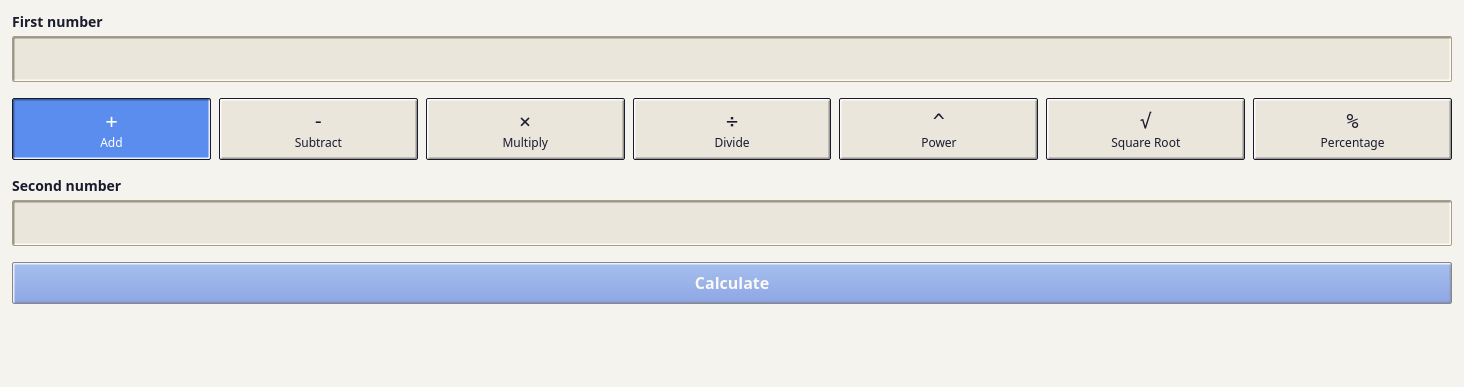
Calculator › calculating › words a percentage as "b% of a"
Click the radio button labelled "Percentage" at (1353,129), box x1=1253 y1=98 x2=1452 y2=160
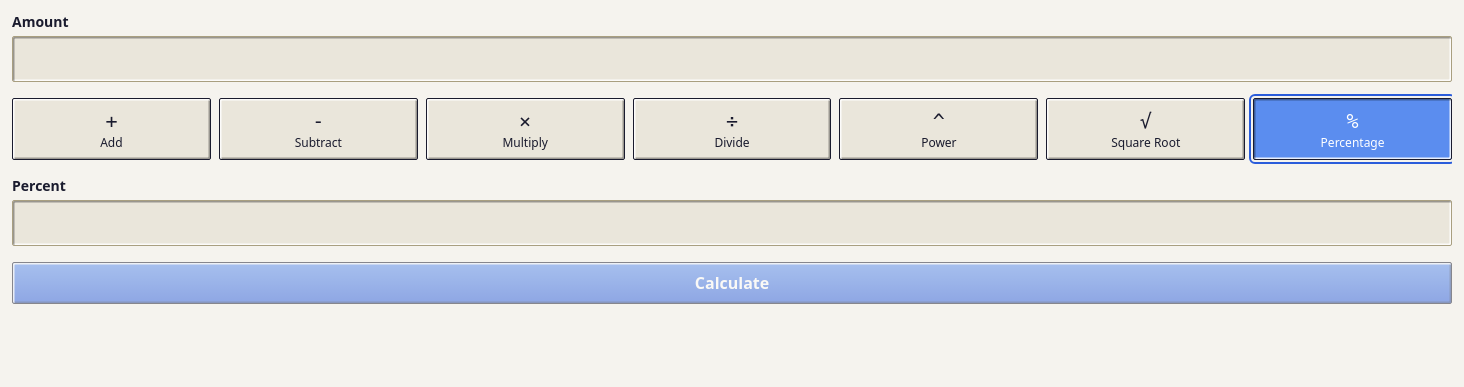
Type "200" into the field labelled "Amount" at (732,59), box x1=12 y1=36 x2=1452 y2=82
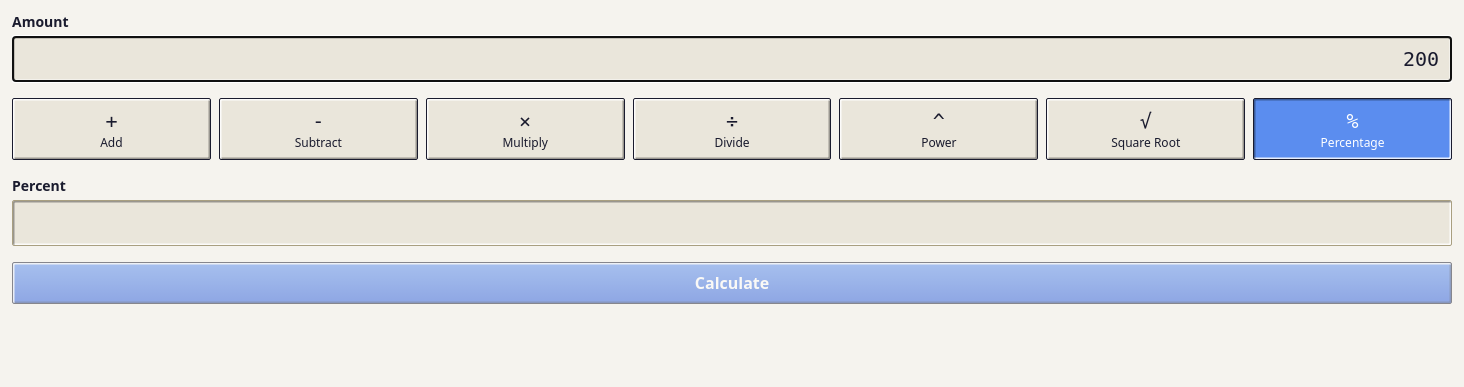
Type "15" into the field labelled "Percent" at (732,223), box x1=12 y1=200 x2=1452 y2=246
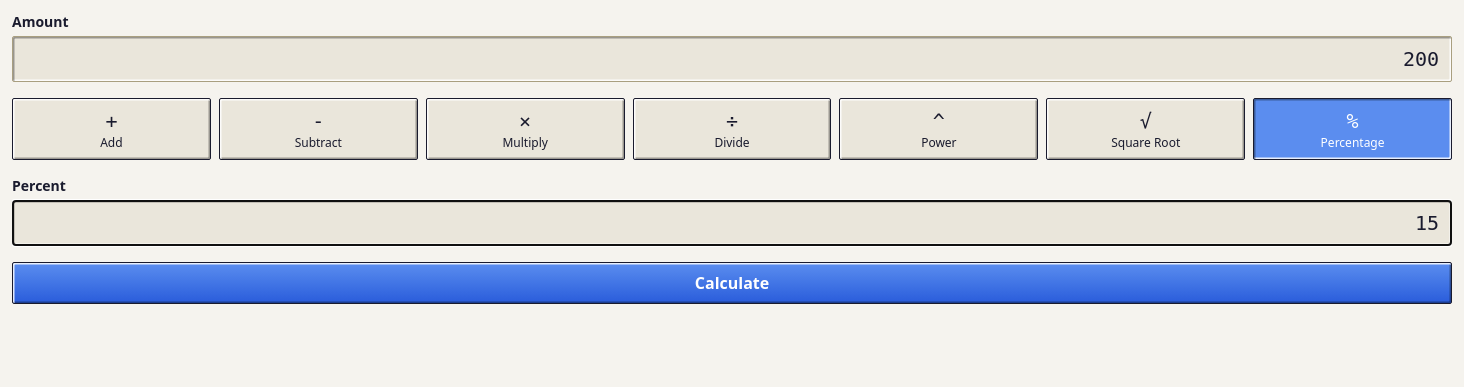
Click the button "Calculate" at (732,283), box x1=12 y1=262 x2=1452 y2=304
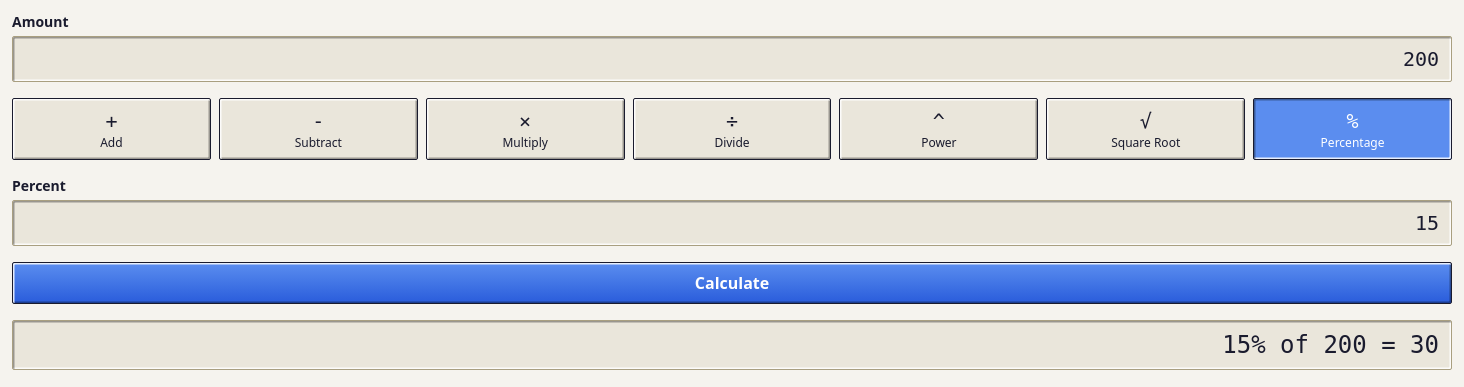
Result: the message reads "15% of 200 = 30" at x1=1222 y1=331 x2=1439 y2=359
